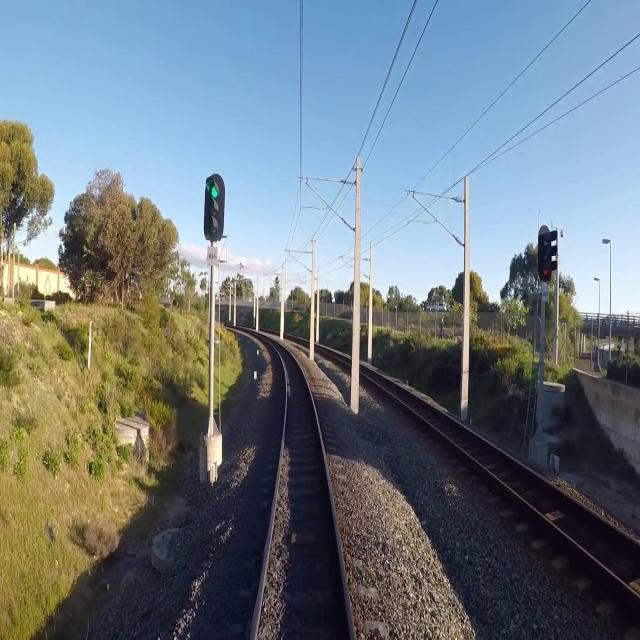rail-track: (360, 366, 640, 592), (256, 343, 351, 639)
